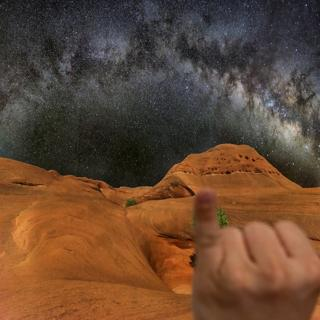FINE: (184, 187, 320, 320)
